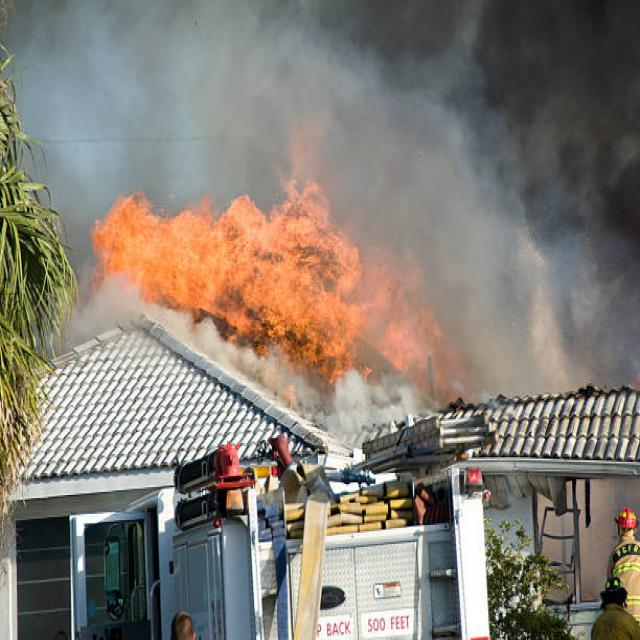Fire: (100, 165, 432, 382)
Smoke: (27, 0, 640, 374)
